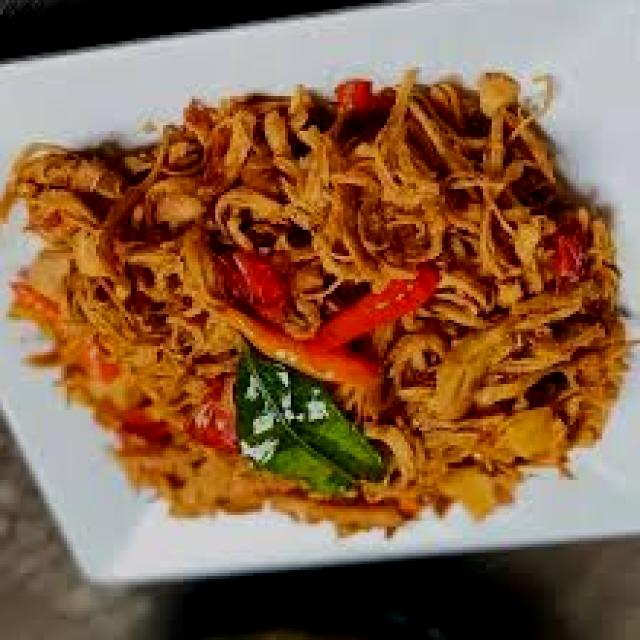ayam_suwir: (18, 91, 623, 543)
